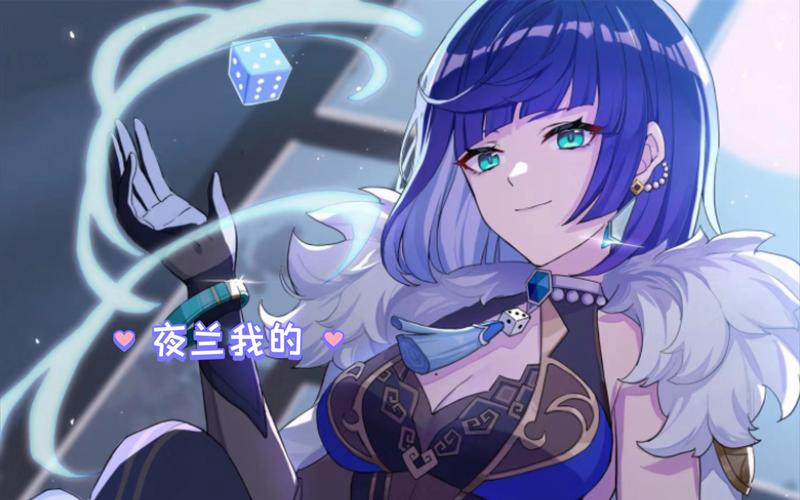夜兰: (86, 1, 723, 500)
